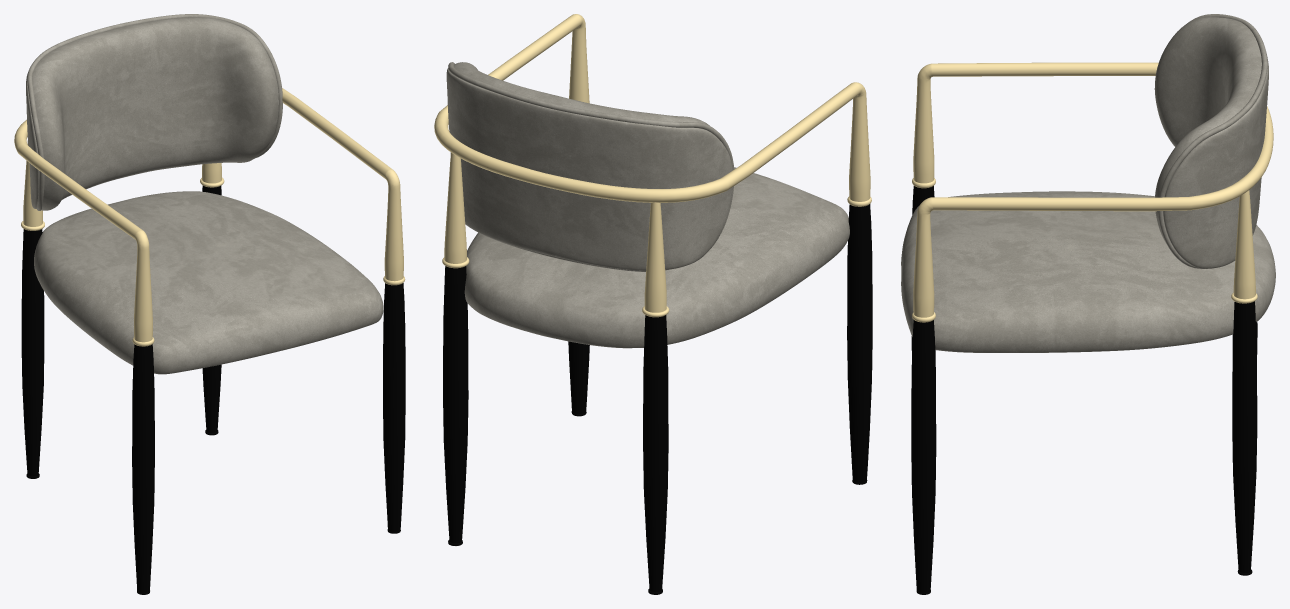
3 views of the same model, side by side, from view 1: azimuth 30°, elevation 25°; view 2: azimuth 150°, elevation 25°; view 3: azimuth 270°, elevation 25° (orthographic). The views are drawn at different scales.
Visible parts, largest first — view 1: pasted__model1, pasted__model7, pasted__model5, pasted__model6; view 2: pasted__model7, pasted__model1, pasted__model5, pasted__model6; view 3: pasted__model1, pasted__model7, pasted__model6, pasted__model5.
Boxes of the visible parts, x1,y1,x2,y2 form: pasted__model1: (34, 191, 383, 374); pasted__model7: (26, 14, 282, 210); pasted__model5: (21, 185, 405, 592); pasted__model6: (14, 88, 405, 346); pasted__model7: (446, 62, 734, 271); pasted__model1: (464, 167, 849, 348); pasted__model5: (443, 204, 872, 592); pasted__model6: (434, 14, 871, 317); pasted__model1: (901, 191, 1275, 352); pasted__model7: (1154, 14, 1268, 268); pasted__model6: (912, 62, 1273, 322); pasted__model5: (911, 186, 1257, 592).
Bounding box in the file's own units: 0.3432 × 0.512 × 0.3754.
Materials: 4 (1 with a texture image).
